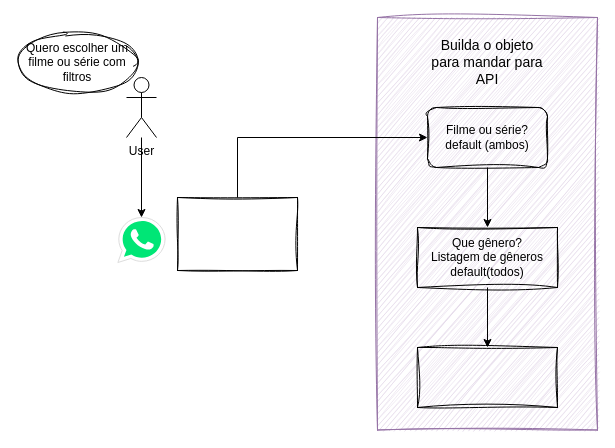
This 615x448 diagram has some shape labels left out. The shapes that lost their labels are listed below. From the top down, each one's box as (x1, y1, x2, y2) in pixels, then its label:
(176, 196, 298, 270): Mostra as opções de Filtro encadeadas
(416, 346, 558, 408): A partir de quando? default(2016)
